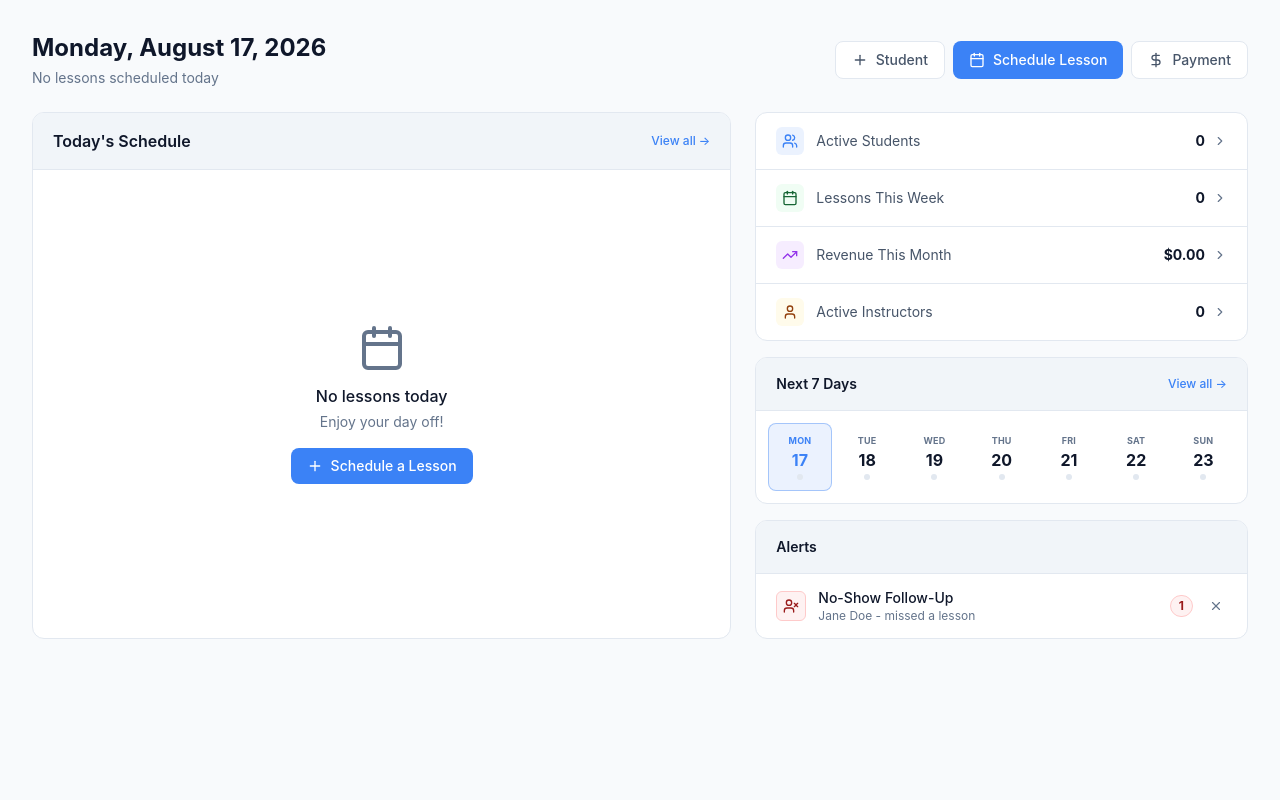
Scenario: Dashboard alerts › the no-show alert disappears after dismissal (simulating the auto-clear-on-booking refetch)
Check: the text "No-Show Follow-Up" is shown, box [818,588,953,606]
Click the button named "Dismiss no-show alert": point(1216, 606) [1205,594,1227,616]
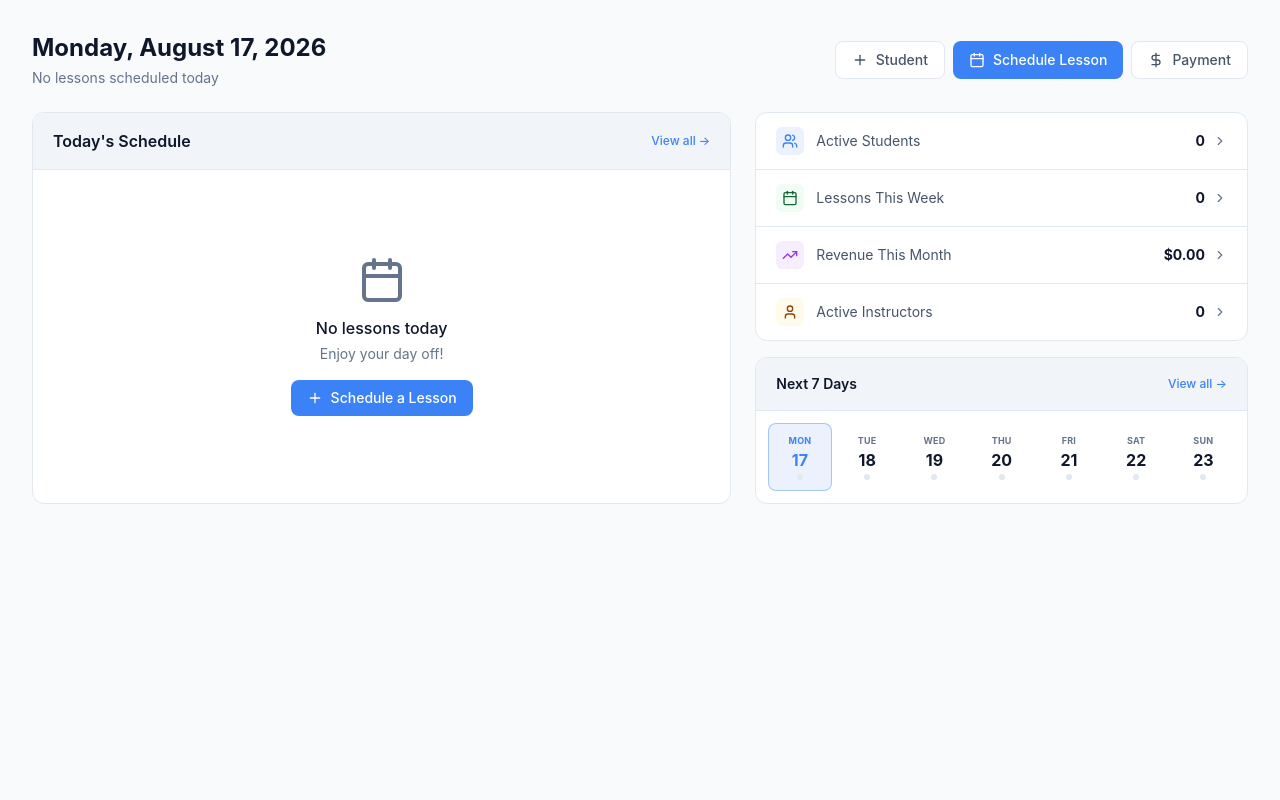
Check: the button "No-Show Follow-Up" is gone
